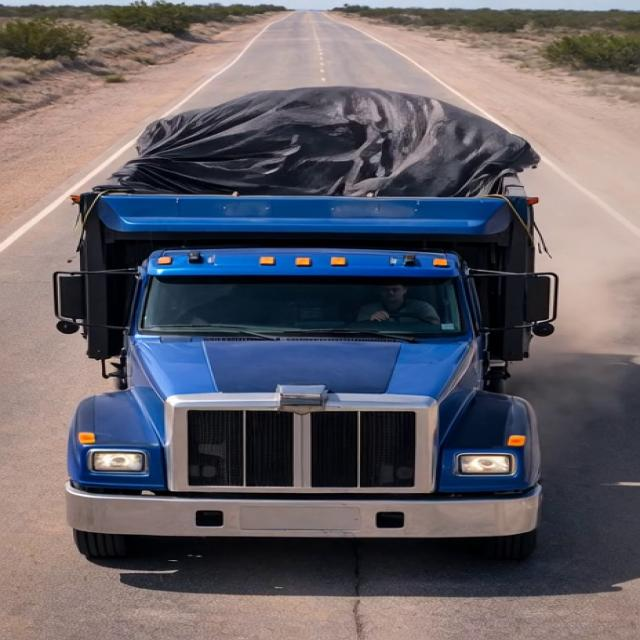Box: (72, 90, 542, 242)
Truck: (17, 85, 584, 551)
